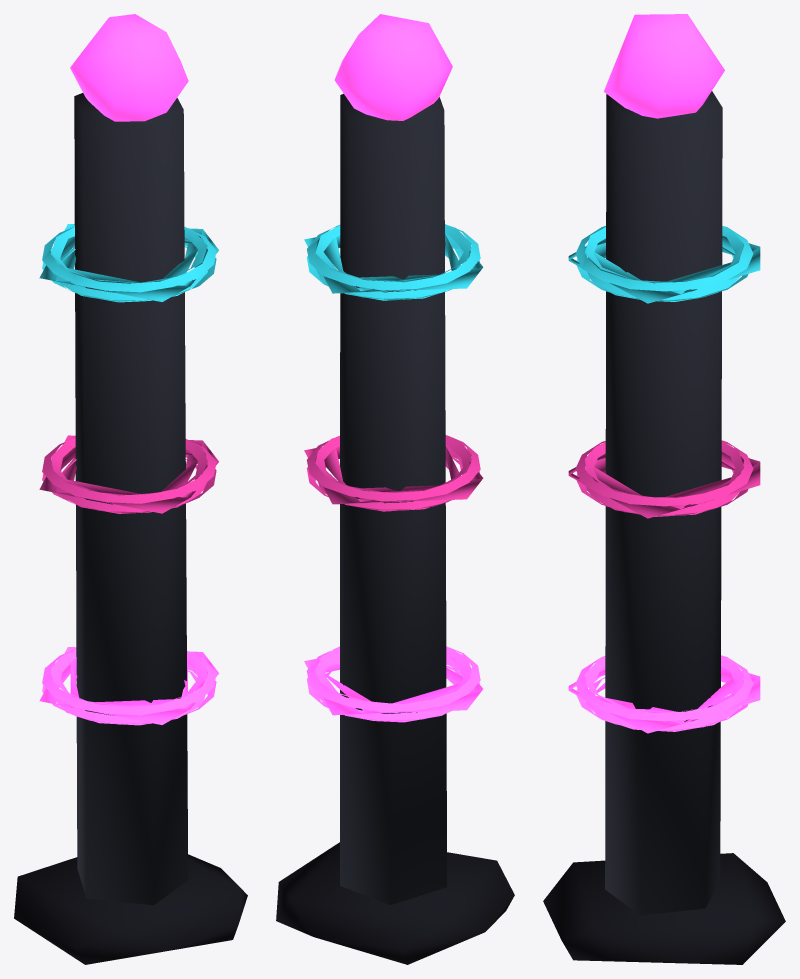
Rendered from lod_light_totem.glb.
The picture shows the model from 3 angles, left to right: view 1: azimuth 30°, elevation 25°; view 2: azimuth 150°, elevation 25°; view 3: azimuth 270°, elevation 25°; orthographic projection.
Parts seen in each view (by area): view 1: light_totem; view 2: light_totem; view 3: light_totem.
Boxes of the visible parts, x1=… form: light_totem: x1=14, y1=14, x2=247, y2=964; light_totem: x1=276, y1=14, x2=514, y2=964; light_totem: x1=543, y1=14, x2=785, y2=964.
Bounding box in the file's own units: 0.8191 × 3.4 × 0.8191.
